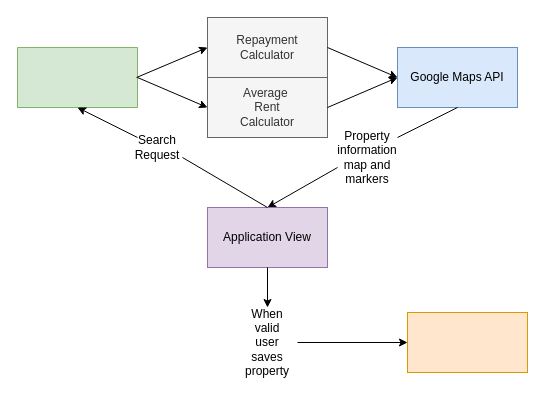
Image size: 545x396. Some labels were removed from this diagram. The centre of each missing label's shape, as x and y in pixels:
"API" goes at point (77, 77).
"MongoDB Atlas Investment Collection" goes at point (467, 342).
